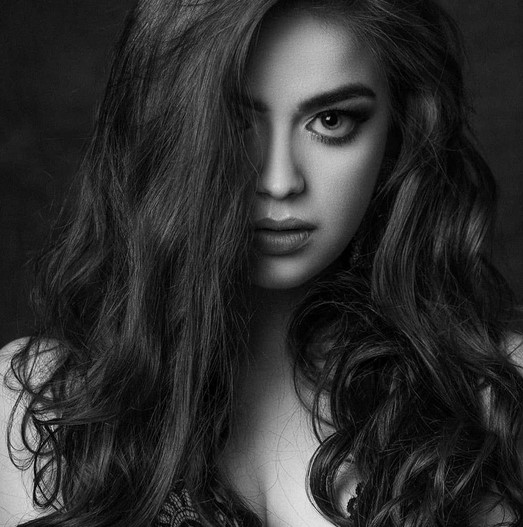face_no_mask: (127, 6, 415, 319)
